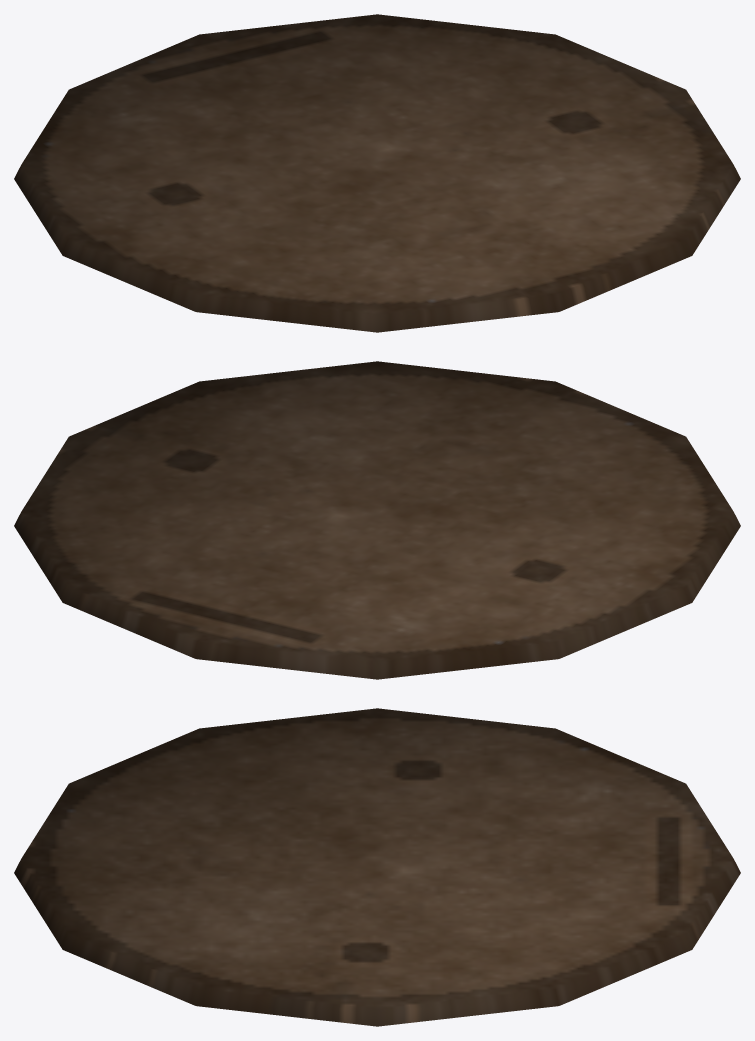
The model's file is sb_obj_ModernCity099_manhole.fbx.
3 views of the same model, one above another, from view 1: azimuth 30°, elevation 25°; view 2: azimuth 150°, elevation 25°; view 3: azimuth 270°, elevation 25° (orthographic).
Visible parts, largest first — view 1: sb_obj_ModernCity099_manhole; view 2: sb_obj_ModernCity099_manhole; view 3: sb_obj_ModernCity099_manhole.
Part boxes in pixels (box(x1,y1,x2,y2)): sb_obj_ModernCity099_manhole: box(14, 14, 740, 332); sb_obj_ModernCity099_manhole: box(14, 361, 740, 679); sb_obj_ModernCity099_manhole: box(14, 708, 740, 1026).
Size of the model in its own units: 1.02 by 0.0218 by 1.02.
